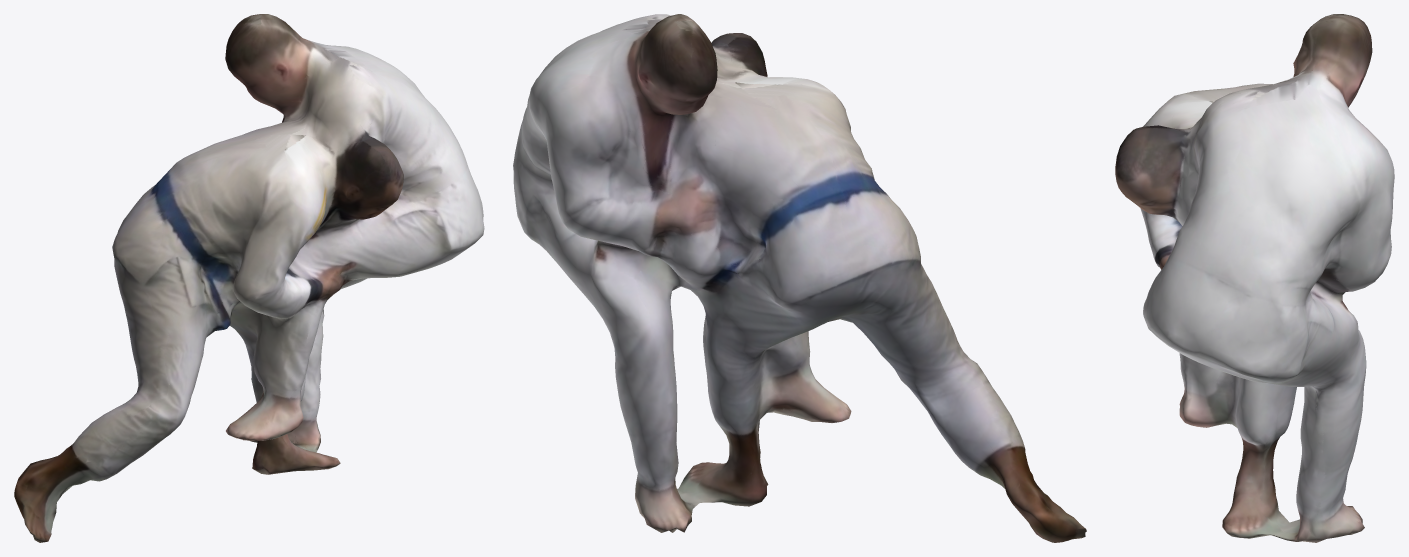
The model's file is double-leg-4.glb.
3 renders of one model, left to right at view 1: azimuth 30°, elevation 25°; view 2: azimuth 150°, elevation 25°; view 3: azimuth 270°, elevation 25°, orthographic. The views are drawn at different scales.
Bounding box in the file's own units: 1.46 × 1.3 × 0.6461.
Materials: 1 (1 with a texture image).
